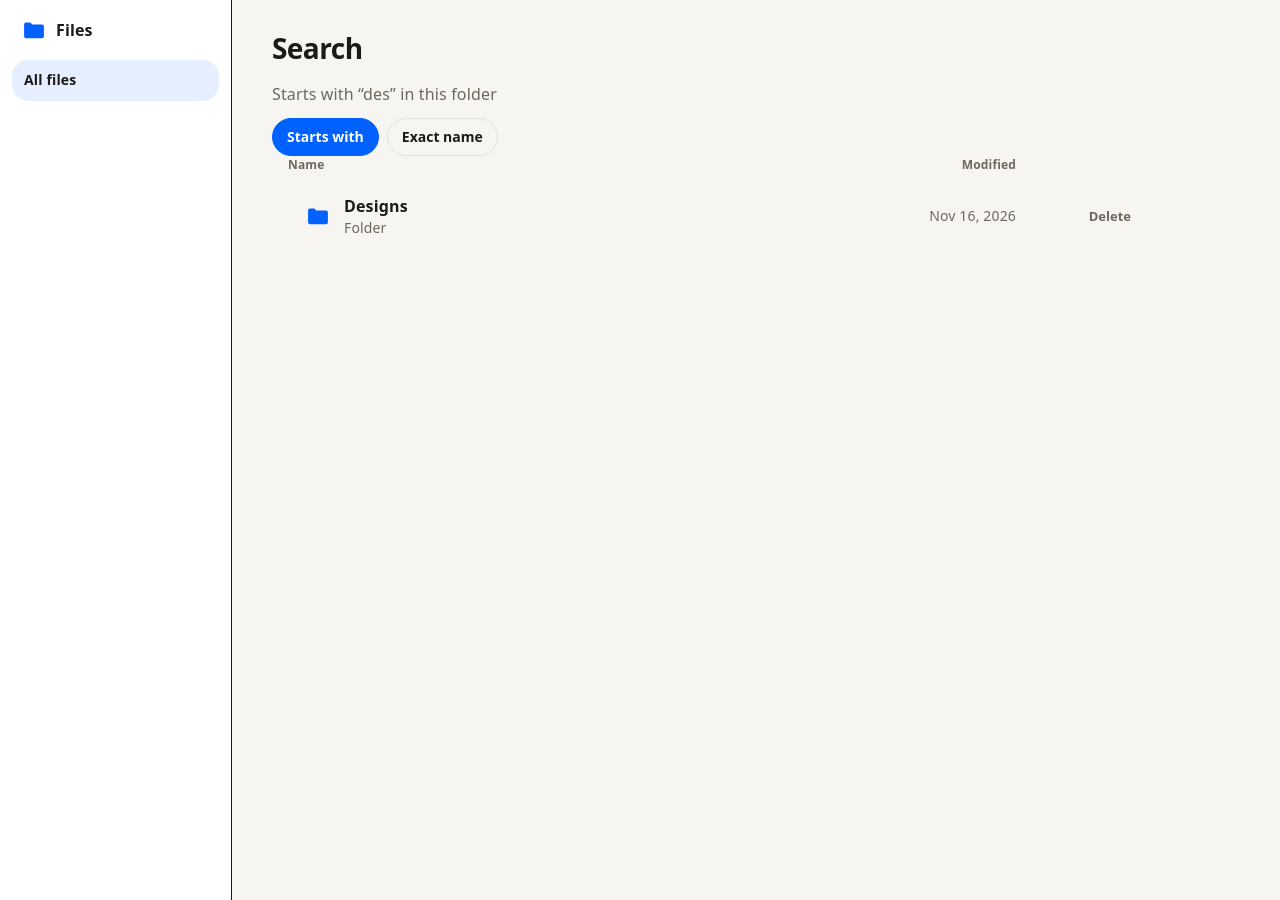
it: search › can switch a shared search to an exact name
This screenshot has width=1280, height=900.
Expected: the link "Designs Folder" is shown, [304, 195, 408, 237]
Click the button "Exact name". click: (442, 137)
box: [387, 118, 498, 156]
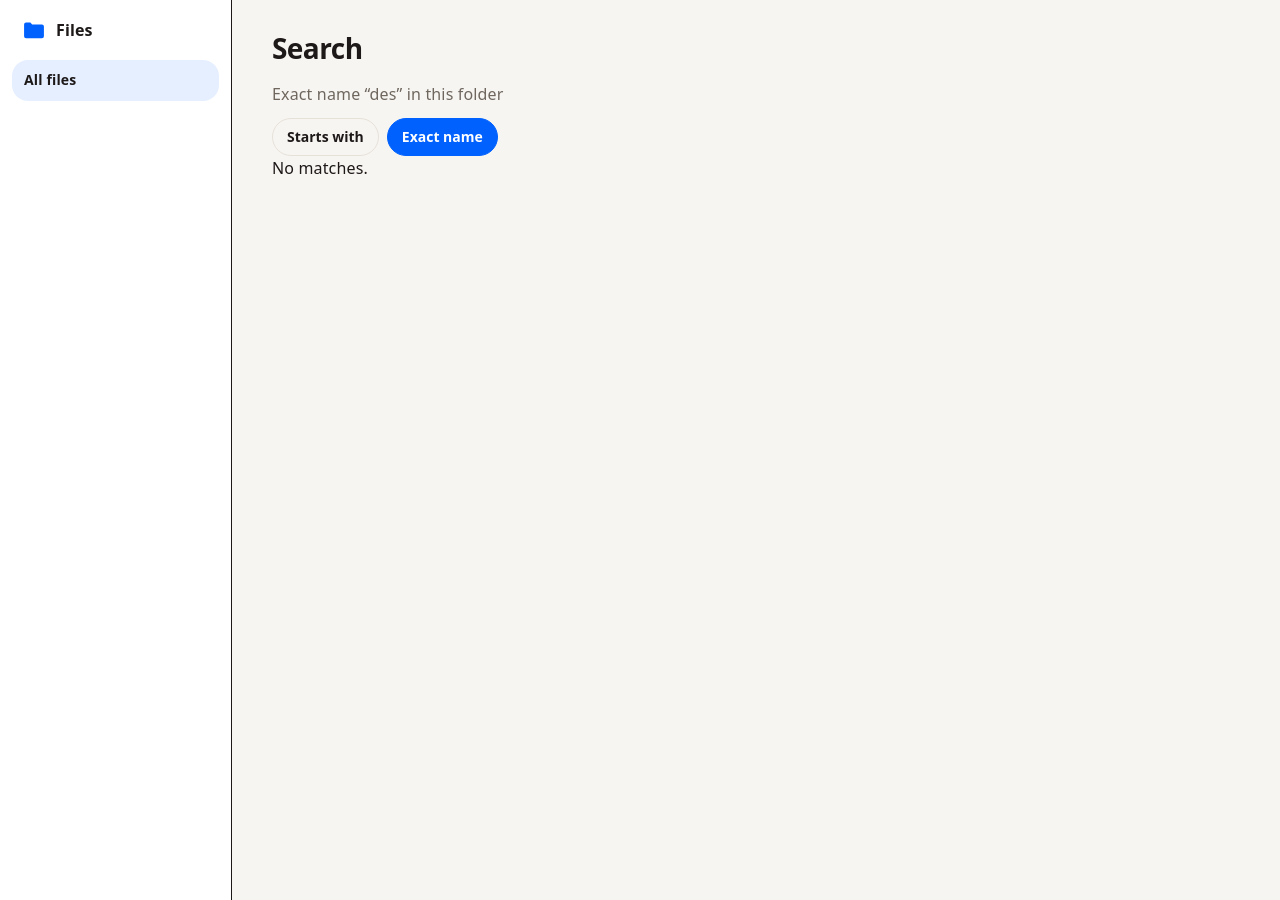
Expected: the text "No matches." is shown, [272, 157, 368, 179]
